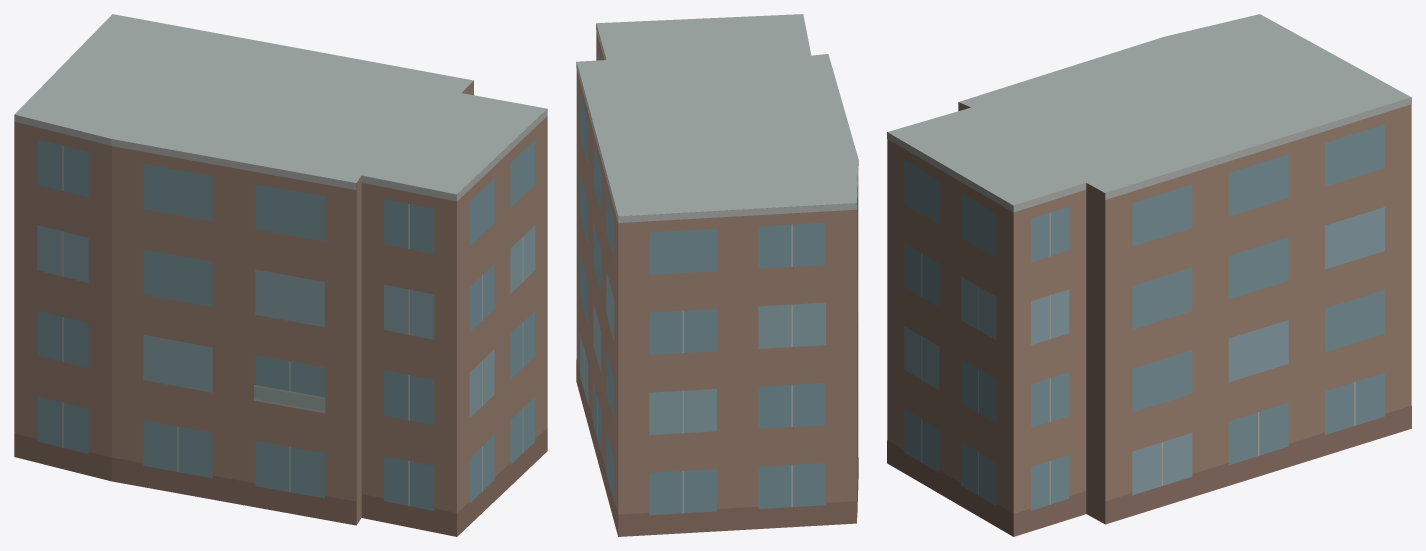
The model's file is survey-upis-32689510.glb.
3 renders of one model, left to right at view 1: azimuth 30°, elevation 25°; view 2: azimuth 150°, elevation 25°; view 3: azimuth 270°, elevation 25°, orthographic. The views are drawn at different scales.
Visible parts, largest first — view 1: survey-upis-32689510.tmp; view 2: survey-upis-32689510.tmp; view 3: survey-upis-32689510.tmp.
Part boxes in pixels (<box>): survey-upis-32689510.tmp: <box>14,14,547,536</box>; survey-upis-32689510.tmp: <box>576,14,858,536</box>; survey-upis-32689510.tmp: <box>887,14,1411,536</box>.
Bounding box in the file's own units: 14.65 × 11.8 × 16.94.
